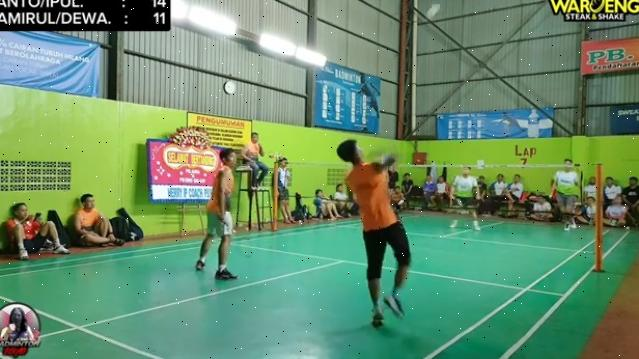Shuttlecock: (424, 1, 442, 21)
